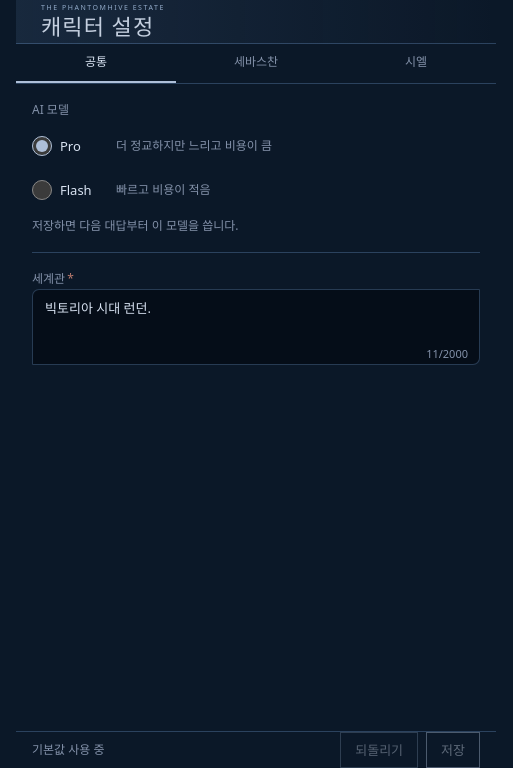
Scenario: TC-ST-043 · 044 · 048 저장 인자 (R-SET-013 · R-SET-005) › TC-ST-048: 기본값 판(isDefault·v0·pro) → Flash → 저장 (settings, 'flash') → 응답 v1·isDefault false → D v1 저장됨
The image size is (513, 768).
Expected: the element named "설정 묶음" is shown, [16,44,496,84]
Expected: the message reads "기본값 사용 중", [32,741,104,758]
Click the radio button labelled "Flash" at (42, 190), box [32,180,52,200]
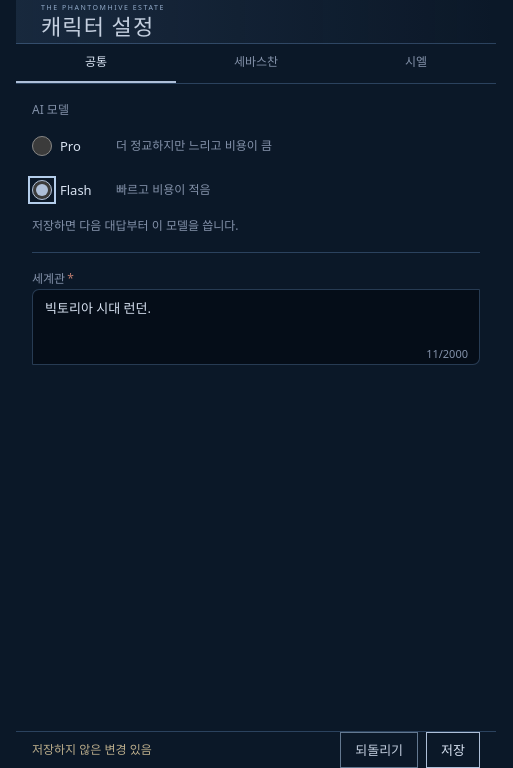
Result: the message reads "저장하지 않은 변경 있음" at [32,741,152,758]
Click the button "저장" at (453, 750), box [426,732,480,767]
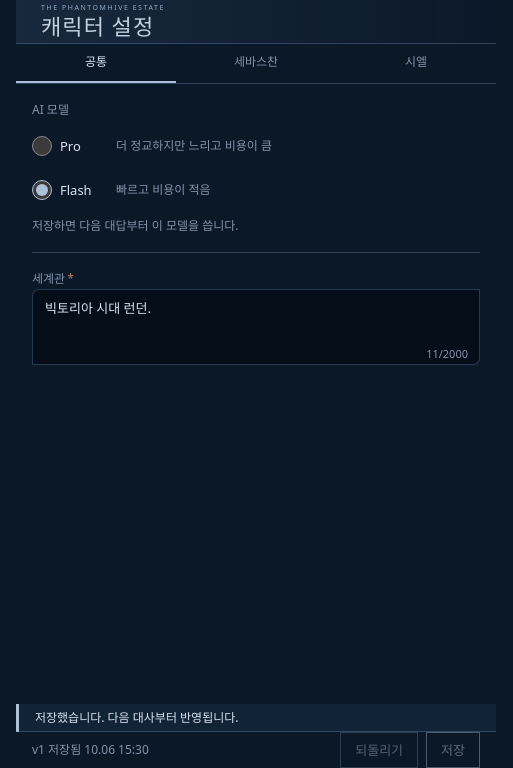
Result: the button "저장" is disabled at [426,732,480,767]
Result: the message "저장했습니다. 다음 대사부터 반영됩니다." is shown at [16,704,496,732]
Result: the message "v1 저장됨 10.06 15:30" is shown at [32,741,149,758]
